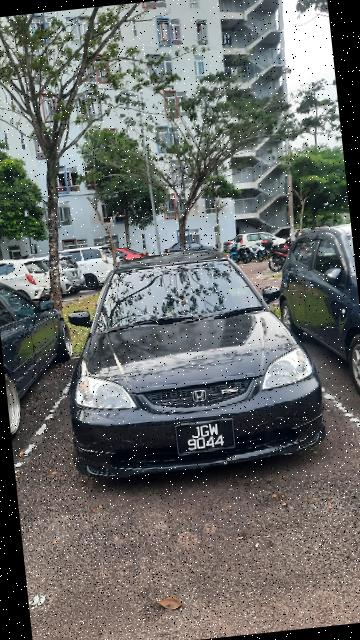License_Plate: (172, 417, 236, 456)
car: (53, 241, 333, 483)
